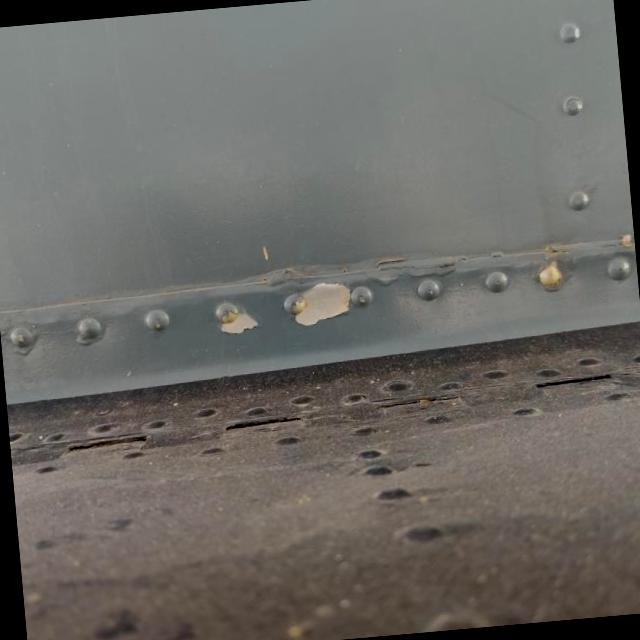paint-off: (273, 267, 370, 341), (209, 293, 266, 344)
